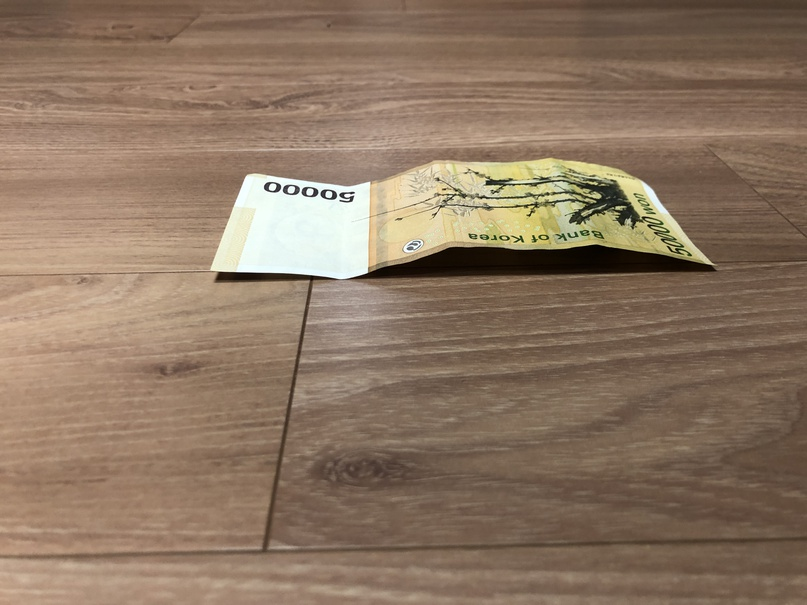50000won: (210, 158, 719, 279)
